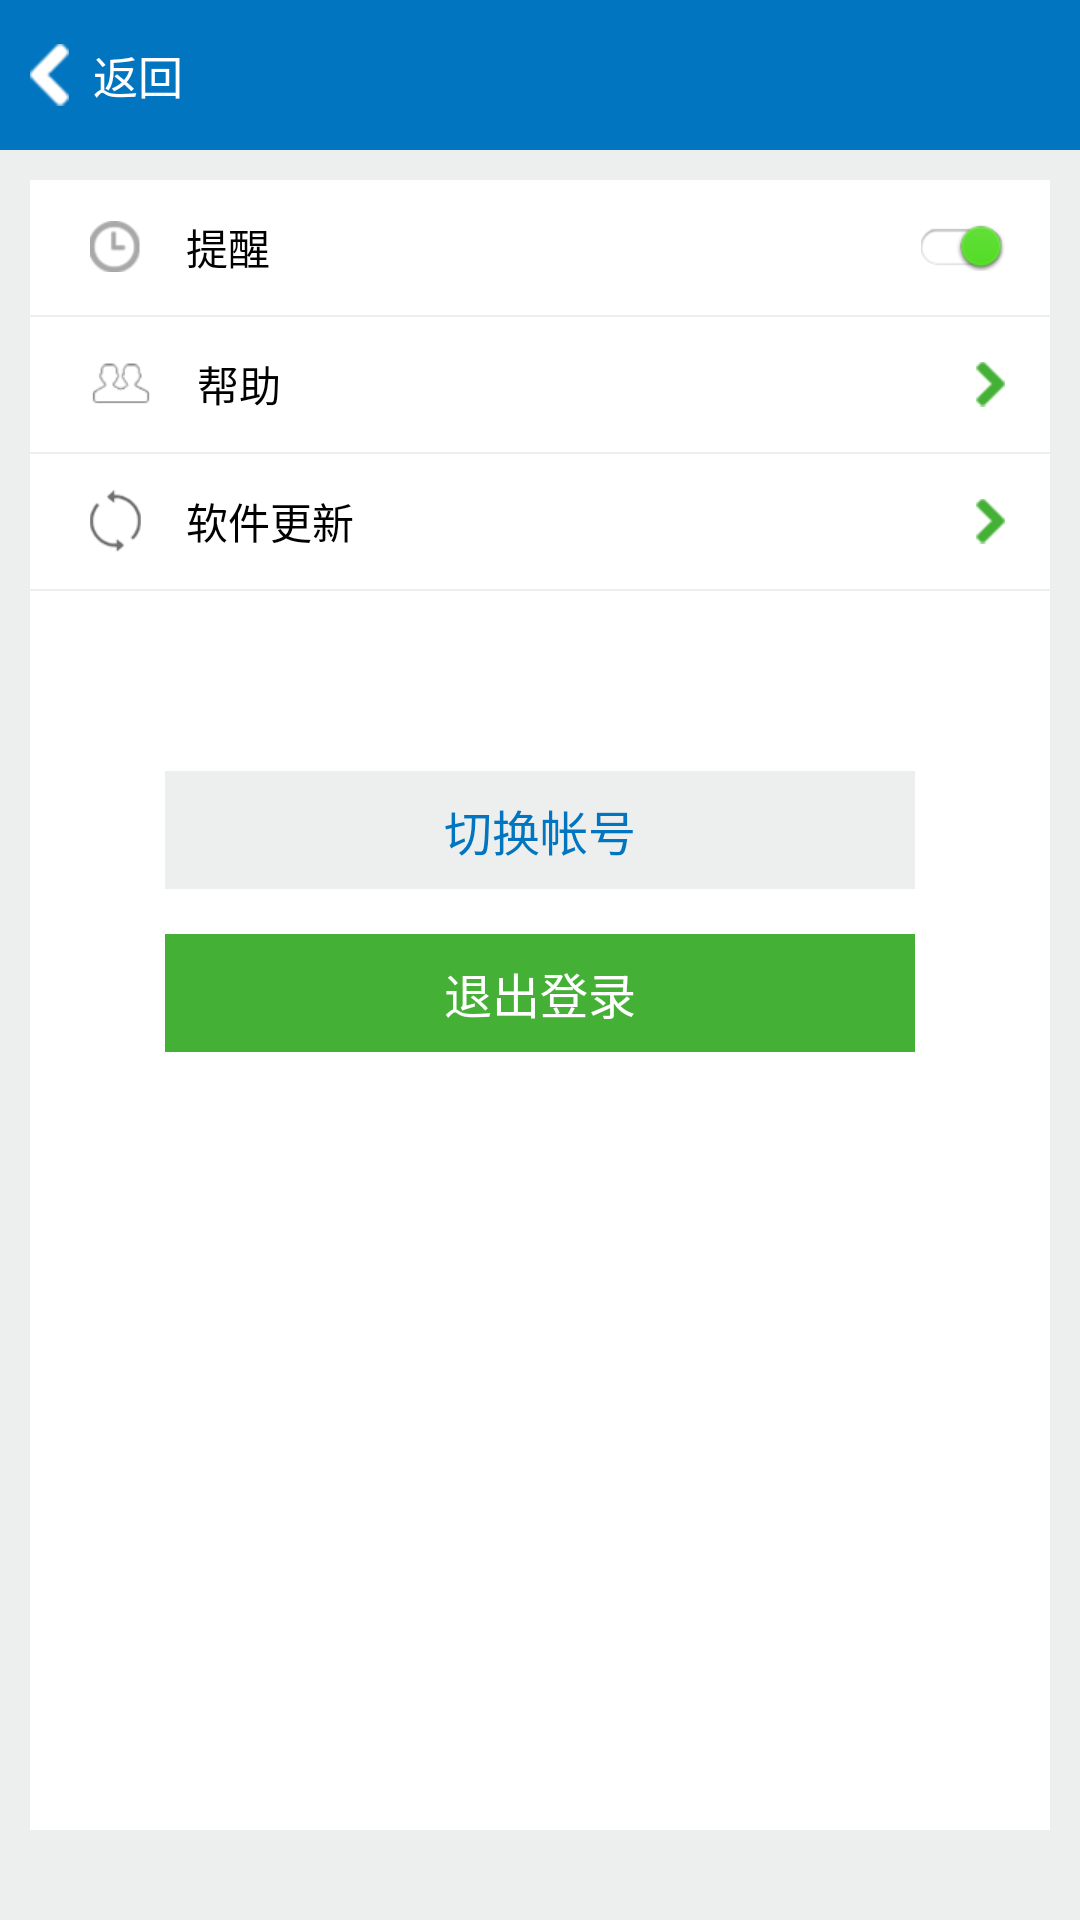

Named icons in this screenshot (1080w x 1920h) and their centers, [x,y]:
switch on: [962,248]
